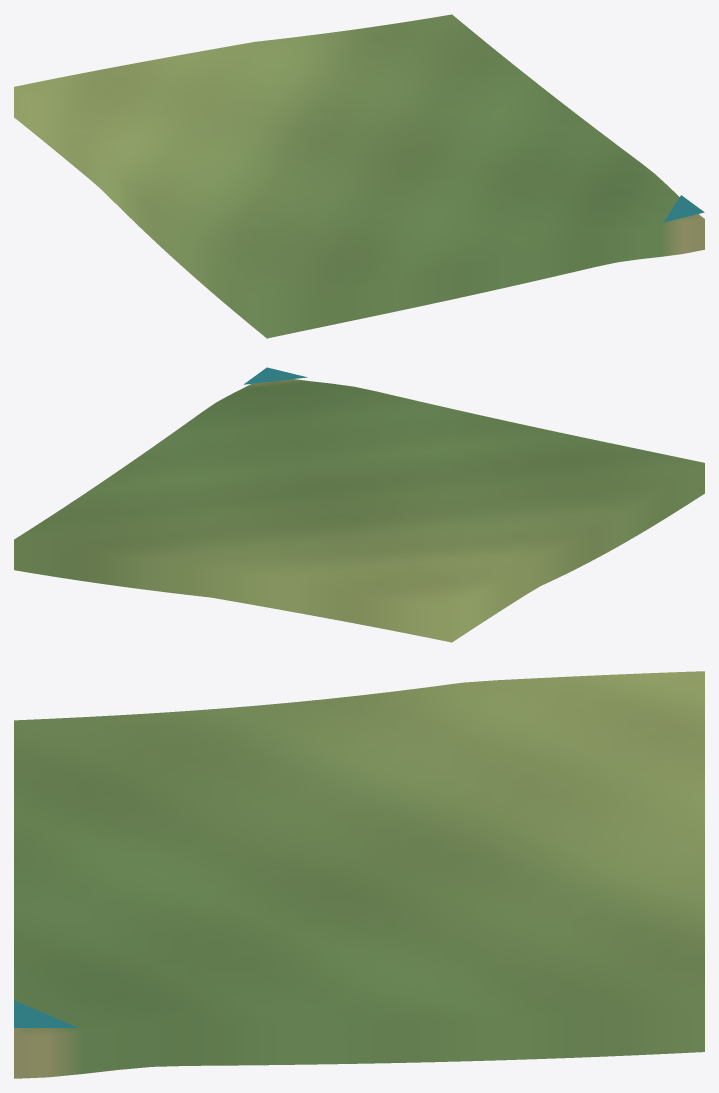
3 views of the same model, one above another, from view 1: azimuth 30°, elevation 25°; view 2: azimuth 150°, elevation 25°; view 3: azimuth 270°, elevation 25° (orthographic). The views are drawn at different scales.
Visible parts, largest first — view 1: terrain, scenery; view 2: terrain, scenery; view 3: terrain, scenery.
Part boxes in pixels (<box>): terrain: <box>14,14,704,338</box>; scenery: <box>664,195,704,222</box>; terrain: <box>14,379,704,642</box>; scenery: <box>244,367,307,384</box>; terrain: <box>14,671,704,1078</box>; scenery: <box>14,1000,78,1027</box>.
Bounding box in the file's own units: 30 × 5.54 × 30.
